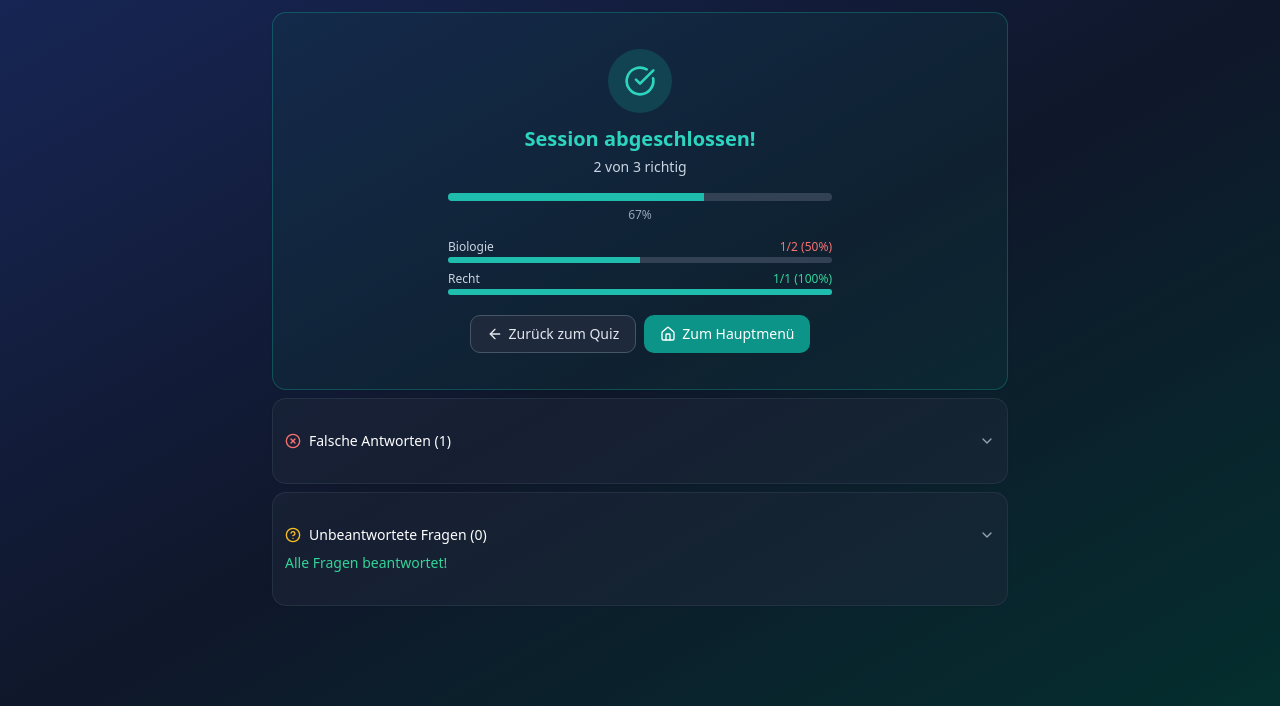
Test: ProgressView › toggles wrong answers section
The width and height of the screenshot is (1280, 706).
Click the button "Falsche Antworten (1)": [374, 440] box x1=285 y1=431 x2=995 y2=451
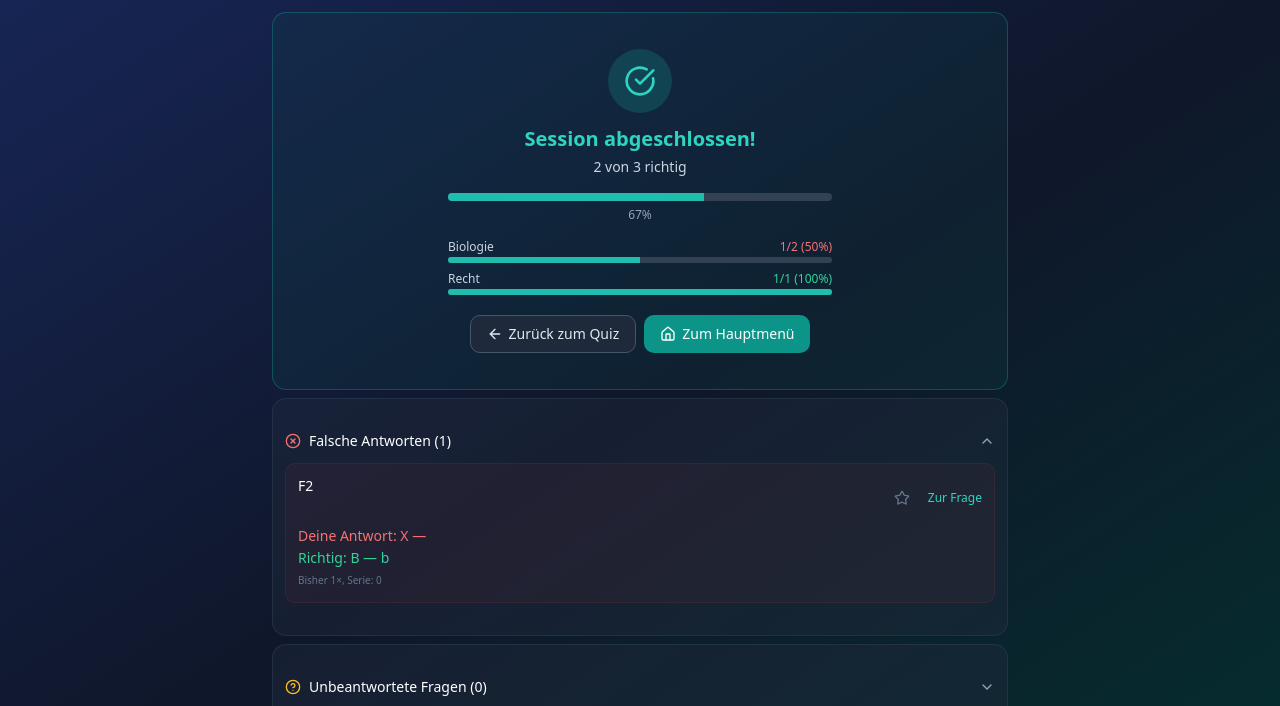
Now the text "F2" is shown, box x1=298 y1=476 x2=313 y2=495
Now the button "Zur Frage" is shown, box x1=928 y1=490 x2=982 y2=506
